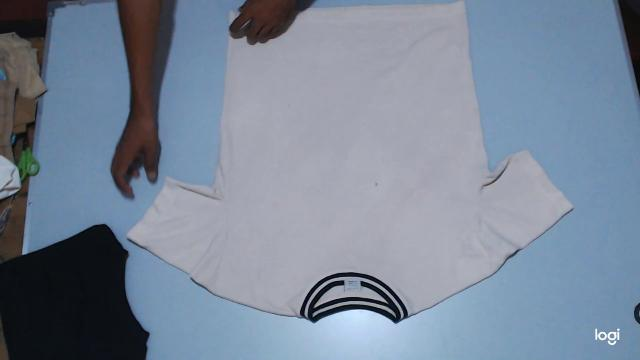new-garment: (128, 2, 572, 322)
